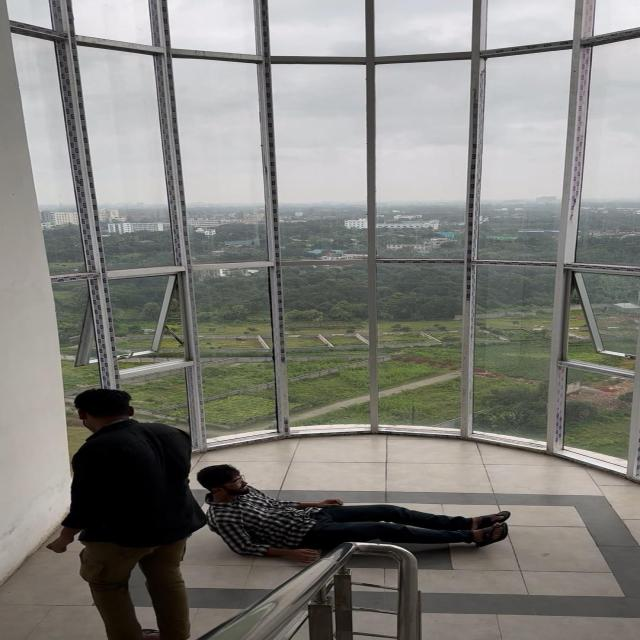fight: (52, 379, 576, 640)
